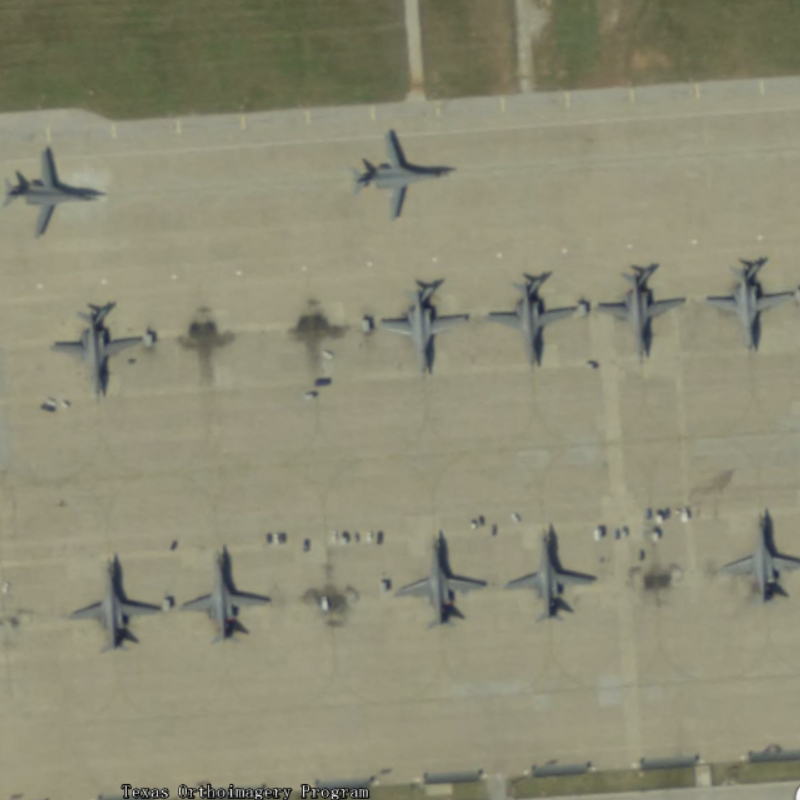A10: (345, 116, 462, 225), (60, 537, 165, 655), (46, 295, 158, 405), (477, 266, 583, 377), (391, 525, 491, 637), (505, 516, 599, 635), (5, 136, 110, 242), (702, 244, 797, 360), (382, 272, 475, 388), (176, 542, 274, 648), (709, 501, 800, 613), (599, 256, 688, 364)
